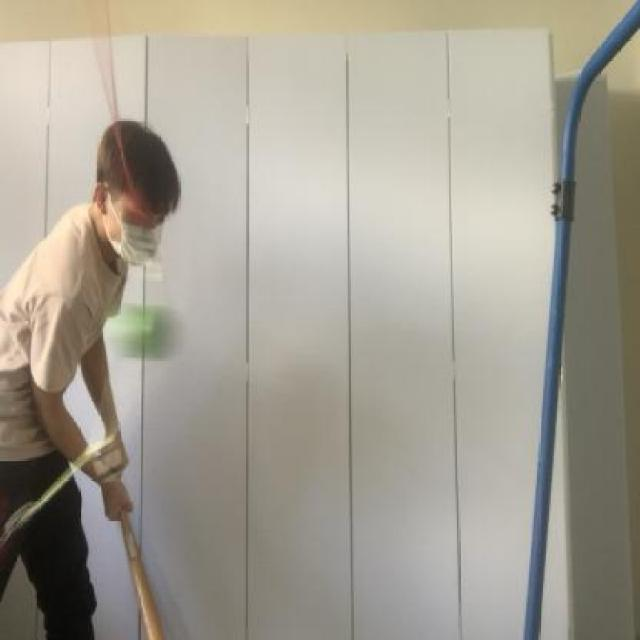baseball: (102, 290, 181, 365)
